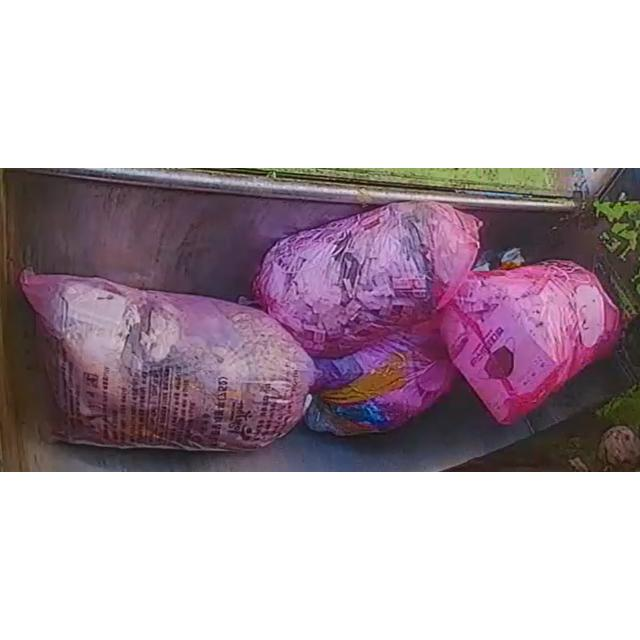other_trashbag: (21, 272, 315, 450), (252, 202, 482, 357), (441, 260, 621, 424), (305, 328, 454, 437)
